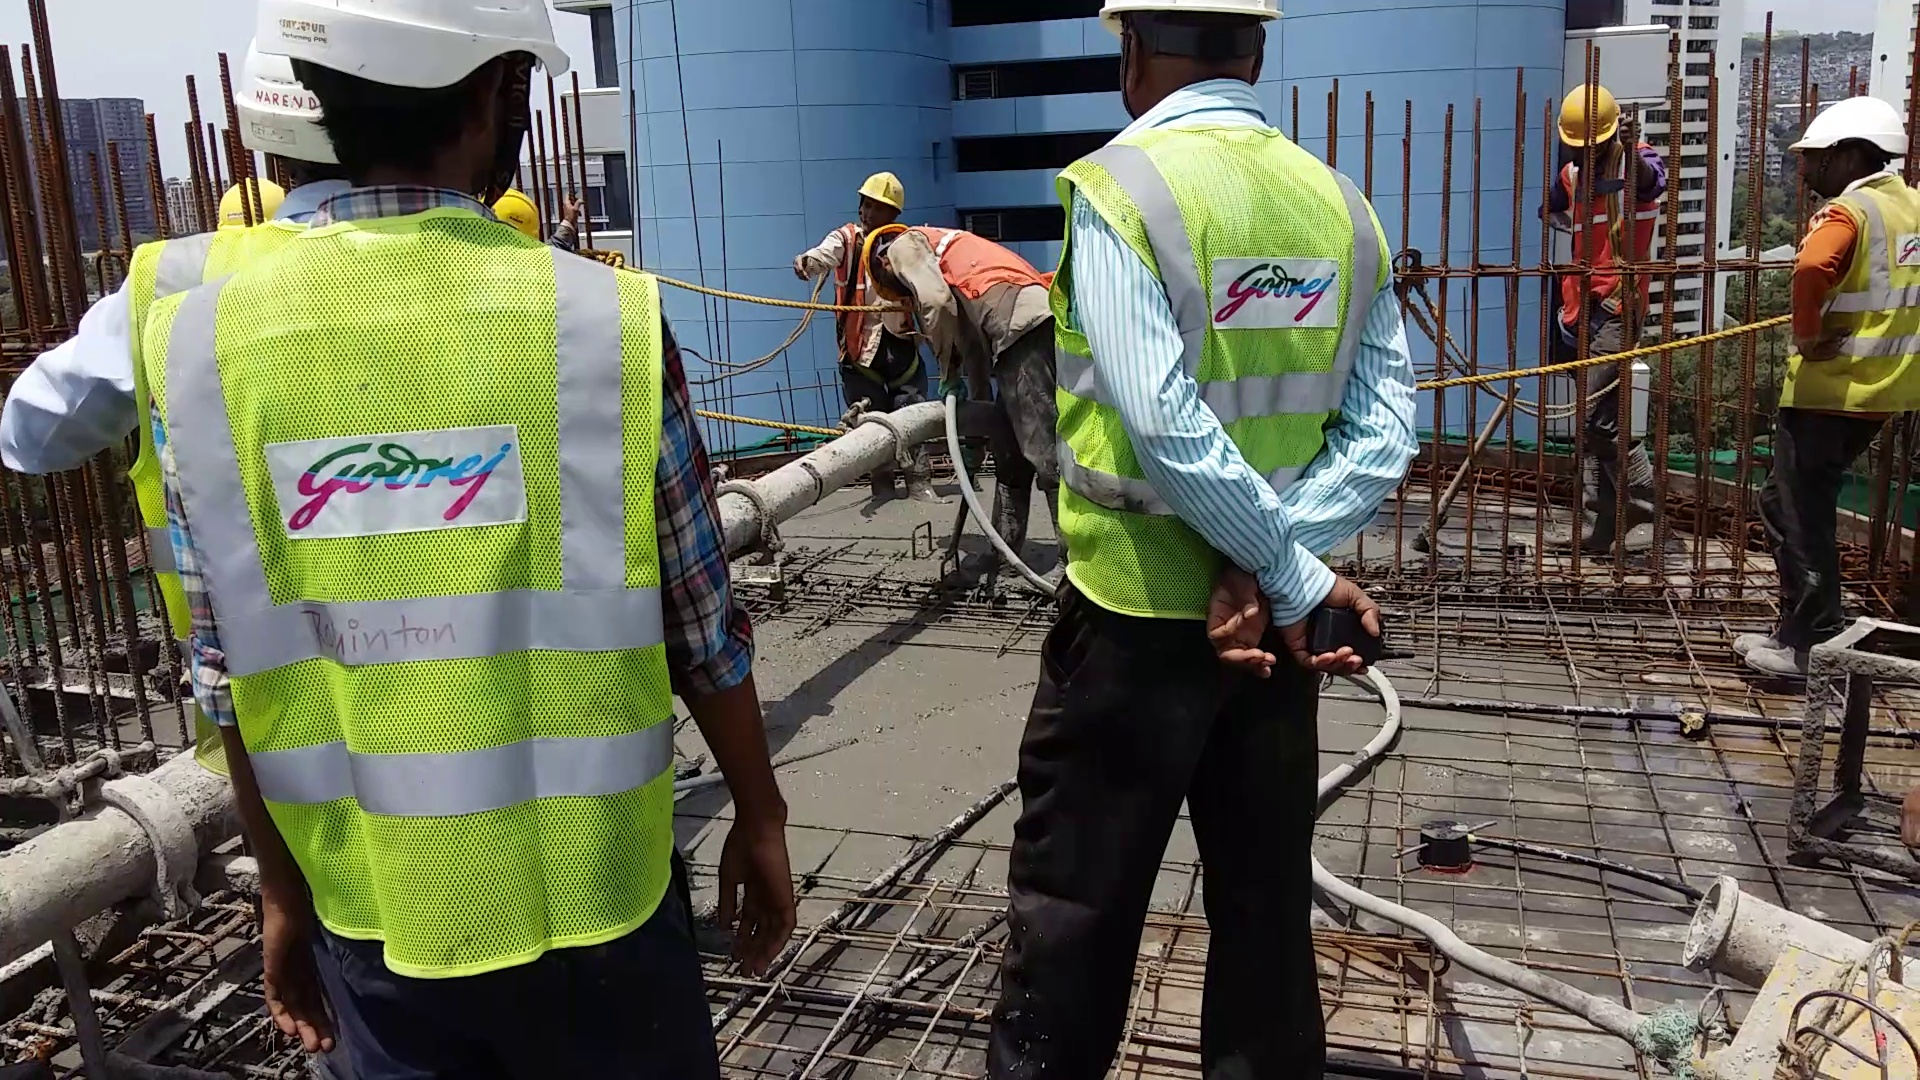SAFE: (214, 5, 659, 975), (1048, 1, 1374, 616), (1774, 88, 1920, 426), (860, 222, 998, 351)
